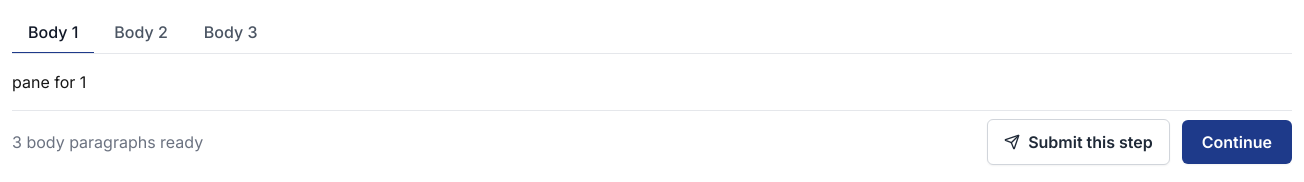
StepShell — body paragraph tabs › switches panes when another tab is clicked
Click the tab "Body 3". click: click(231, 33)
box: [188,12,274,54]
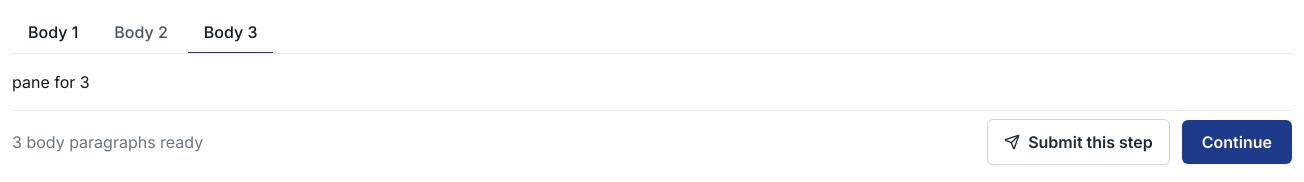
Expected: the text "pane for 3" is shown, [12,72,90,92]
Expected: the text "pane for 1" is gone
